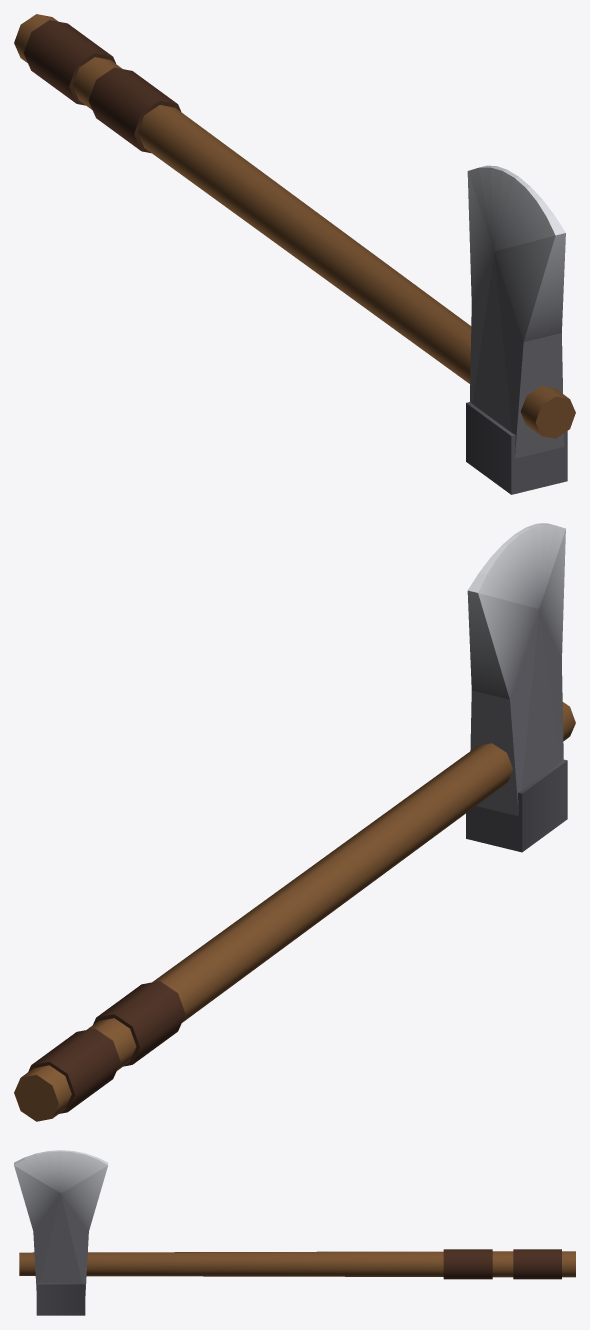
File: axe_icon.glb
3 views of the same model, one above another, from view 1: azimuth 30°, elevation 25°; view 2: azimuth 150°, elevation 25°; view 3: azimuth 270°, elevation 25° (orthographic). The views are drawn at different scales.
Parts seen in each view (by area): view 1: axe_icon; view 2: axe_icon; view 3: axe_icon.
Boxes of the visible parts, x1,y1,x2,y2 form: axe_icon: [14, 14, 575, 494]; axe_icon: [14, 523, 575, 1121]; axe_icon: [14, 1150, 575, 1315].
Size of the model in its own units: 0.05 by 0.25 by 0.8078.
